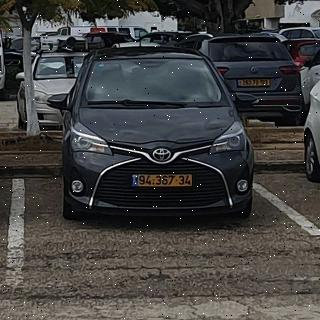LicensePlate: (139, 175, 192, 186)
